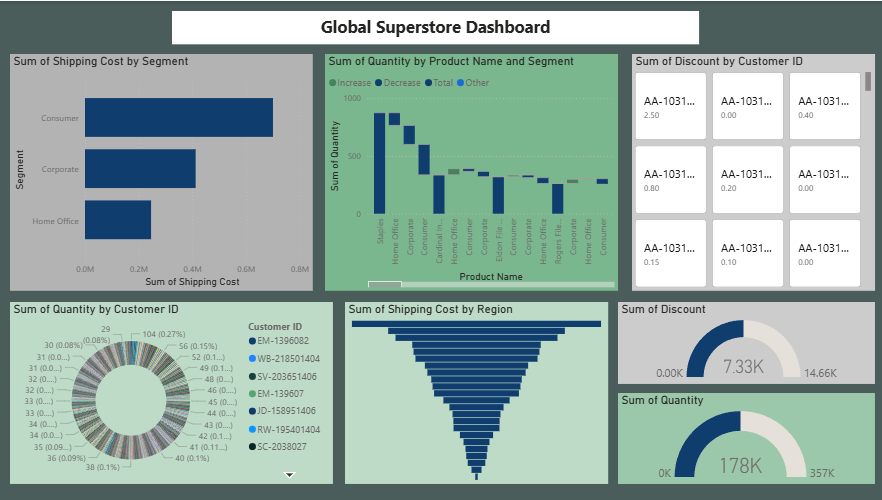

Layout of this report page (visuals, bound fields, positions):
{"tool":"powerbi","page":{"name":"Page 1","canvas":[1280,720],"ordinal":0},"visuals":[{"type":"barChart","fields":{"Y":["Sum(global_superstore_2016.Shipping Cost)"],"Category":["global_superstore_2016.Segment"]},"box":[20.2,76.3,436.3,341.3],"z":0},{"type":"donutChart","fields":{"Category":["global_superstore_2016.Customer ID"],"Y":["Sum(global_superstore_2016.Quantity)"]},"box":[20.2,433.4,465.1,262.1],"z":1},{"type":"gauge","fields":{"Y":["Sum(global_superstore_2016.Discount)"]},"box":[895.7,433.4,370.1,118.1],"z":3},{"type":"advancedSlicerVisual","fields":{"Label":["Sum(global_superstore_2016.Discount)"],"Values":["global_superstore_2016.Customer ID"]},"box":[915.8,76.3,349.9,341.3],"z":4},{"type":"waterfallChart","fields":{"Category":["global_superstore_2016.Product Name"],"Y":["Sum(global_superstore_2016.Quantity)"],"Breakdown":["global_superstore_2016.Segment"]},"box":[473.8,76.3,421.9,341.3],"z":6},{"type":"funnel","fields":{"Category":["global_superstore_2016.Region"],"Y":["Sum(global_superstore_2016.Shipping Cost)"]},"box":[502.6,433.4,378.7,262.1],"z":7},{"type":"gauge","fields":{"Y":["Sum(global_superstore_2016.Quantity)"]},"box":[895.7,564.5,370.1,131],"z":8},{"type":"textbox","box":[253.4,14.4,758.9,47.5],"z":9}]}

Visuals, with their boxes in screenshot pixels (x1, y1, x2, y2), scaled from the page's 1280x720 canvas onto the 882x500 screenshot:
barChart - Sum(global_superstore_2016.Shipping Cost) x global_superstore_2016.Segment: 14,53,315,290
donutChart - global_superstore_2016.Customer ID x Sum(global_superstore_2016.Quantity): 14,301,334,483
gauge - Sum(global_superstore_2016.Discount): 617,301,872,383
advancedSlicerVisual - Sum(global_superstore_2016.Discount) x global_superstore_2016.Customer ID: 631,53,872,290
waterfallChart - global_superstore_2016.Product Name x Sum(global_superstore_2016.Quantity): 326,53,617,290
funnel - global_superstore_2016.Region x Sum(global_superstore_2016.Shipping Cost): 346,301,607,483
gauge - Sum(global_superstore_2016.Quantity): 617,392,872,483
textbox: 175,10,698,43
